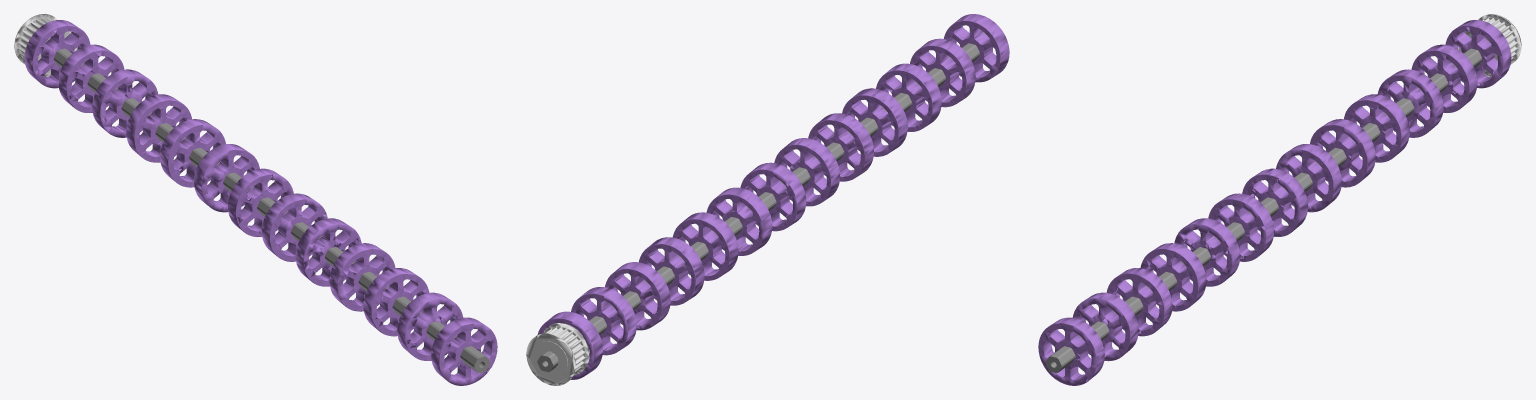
The model's file is IntakeWheels.dae.
The picture shows the model from 3 angles, left to right: view 1: azimuth 30°, elevation 25°; view 2: azimuth 150°, elevation 25°; view 3: azimuth 330°, elevation 25°; orthographic projection.
Visible parts, largest first — view 1: 0307 - Flecha Intake 26.5".003; view 2: 0307 - Flecha Intake 26.5".003; view 3: 0307 - Flecha Intake 26.5".003.
Part boxes in pixels (x1=…): 0307 - Flecha Intake 26.5".003: x1=14, y1=14, x2=497, y2=385; 0307 - Flecha Intake 26.5".003: x1=526, y1=14, x2=1009, y2=385; 0307 - Flecha Intake 26.5".003: x1=1038, y1=14, x2=1521, y2=385.
Bounding box in the file's own units: 0.0508 × 0.6731 × 0.0508.
